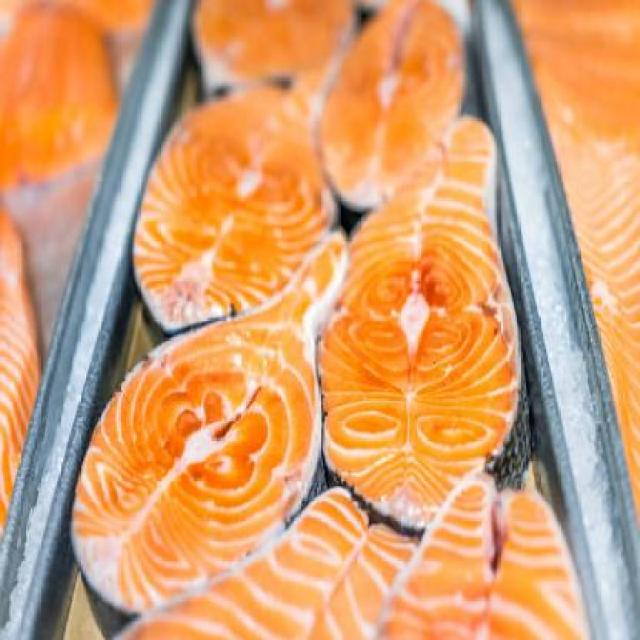salmon: (67, 226, 370, 634), (308, 106, 540, 542), (125, 20, 346, 348), (94, 451, 448, 640), (382, 428, 600, 639), (316, 3, 477, 229), (185, 1, 382, 127)
